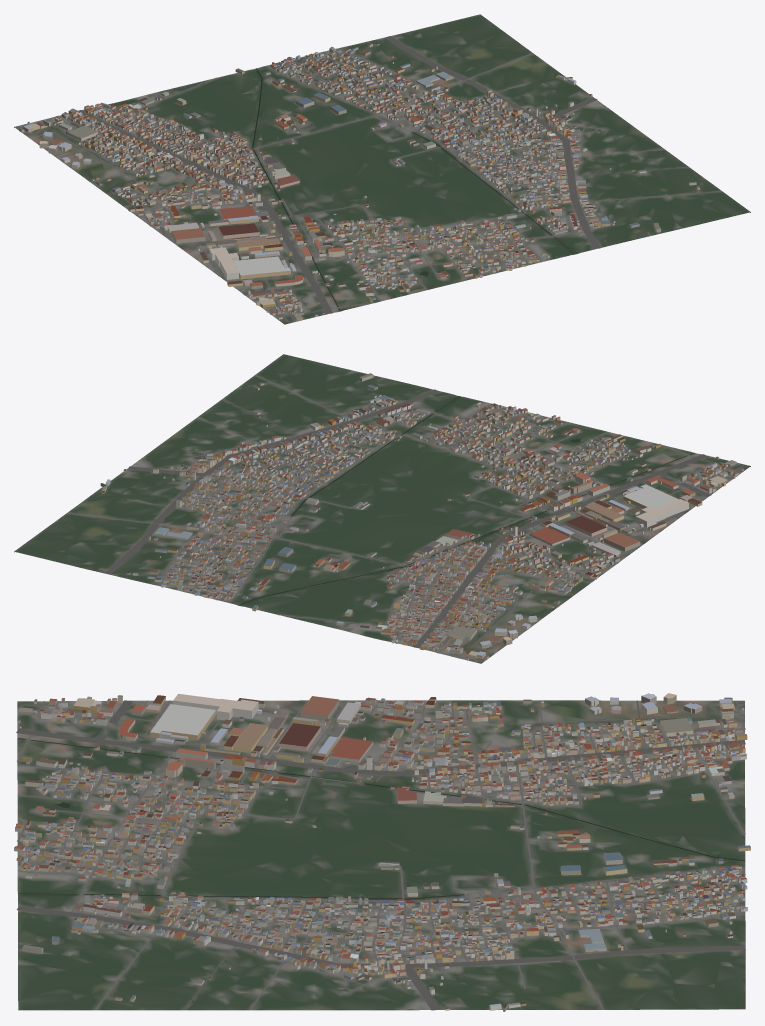
3 renders of one model, top to bottom at view 1: azimuth 30°, elevation 25°; view 2: azimuth 150°, elevation 25°; view 3: azimuth 270°, elevation 25°, orthographic. The views are drawn at different scales.
Visible parts, largest first — view 1: ground, buildings, roads, water; view 2: ground, buildings, roads, water; view 3: ground, buildings, roads, water.
Part boxes in pixels (x1,y1,x2,y2): ground: [14, 14, 750, 324]; buildings: [19, 43, 700, 320]; roads: [17, 36, 721, 321]; water: [252, 68, 575, 311]; ground: [14, 354, 750, 663]; buildings: [100, 373, 743, 660]; roads: [66, 375, 743, 661]; water: [238, 396, 694, 605]; ground: [17, 700, 745, 1010]; buildings: [14, 693, 750, 1011]; roads: [16, 700, 745, 1010]; water: [17, 738, 744, 899].
Bounding box in the file's own units: 1416 × 35.56 × 1420.
